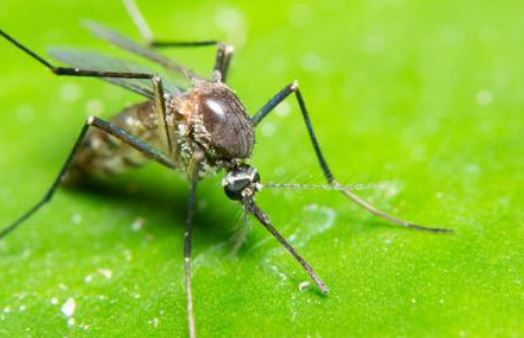dengue_mosquito: (1, 39, 347, 293)
